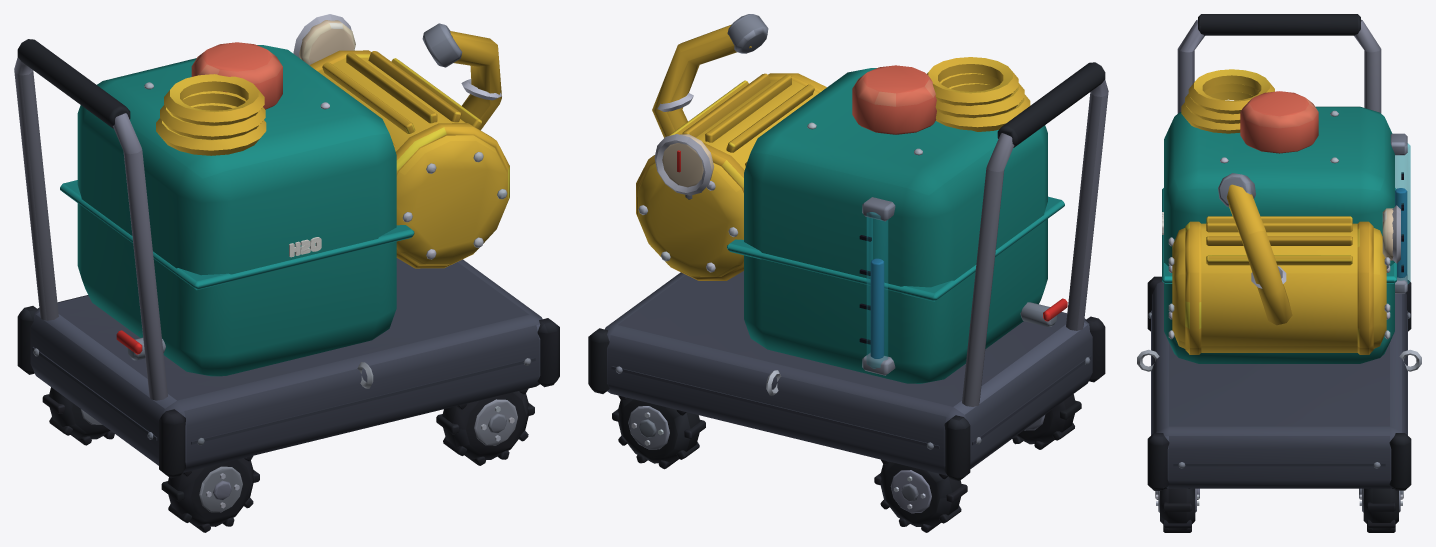
The model's file is SM_Station_RainMachine.fbx.
3 renders of one model, left to right at view 1: azimuth 30°, elevation 25°; view 2: azimuth 150°, elevation 25°; view 3: azimuth 270°, elevation 25°, orthographic. The views are drawn at different scales.
Parts seen in each view (by area): view 1: SM_Station_RainMachine; view 2: SM_Station_RainMachine; view 3: SM_Station_RainMachine.
Boxes of the visible parts, box(x1,y1,x2,y2) form: SM_Station_RainMachine: box(14, 14, 559, 532); SM_Station_RainMachine: box(588, 14, 1108, 532); SM_Station_RainMachine: box(1137, 14, 1421, 532).
Bounding box in the file's own units: 100 × 95.07 × 67.06.
